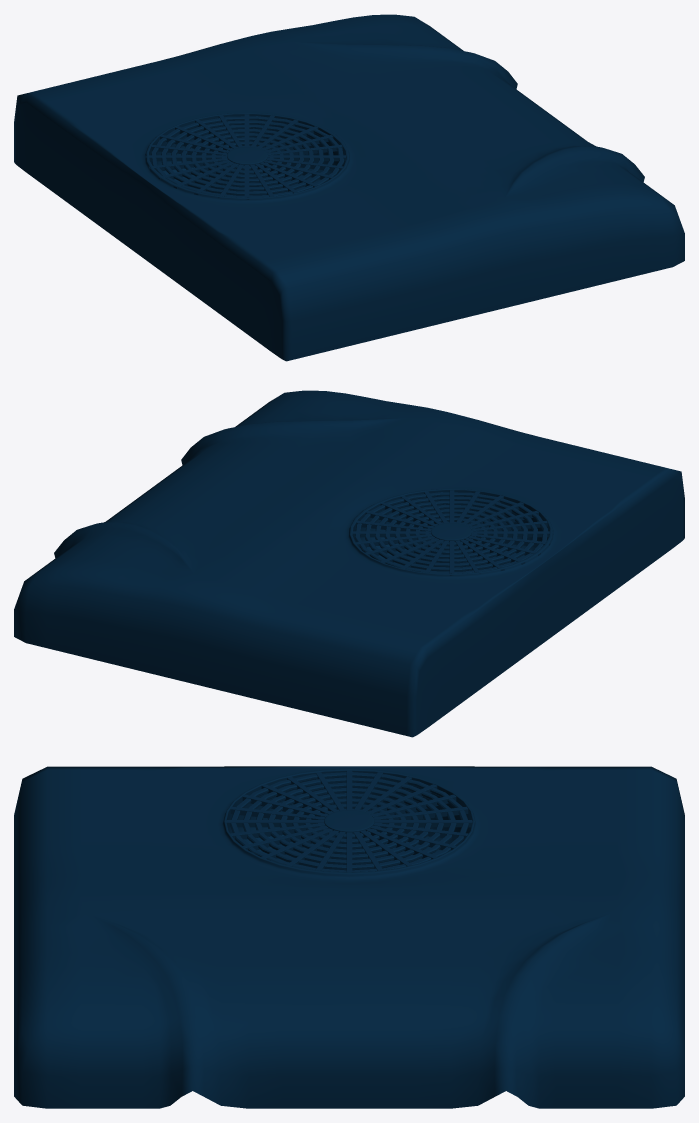
File: airconditioner.glb
The picture shows the model from 3 angles, top to bottom: view 1: azimuth 30°, elevation 25°; view 2: azimuth 150°, elevation 25°; view 3: azimuth 270°, elevation 25°; orthographic projection. The views are drawn at different scales.
Parts seen in each view (by area): view 1: air_conditioner; view 2: air_conditioner; view 3: air_conditioner.
Part boxes in pixels (bbox=[...]): air_conditioner: bbox=[14, 14, 684, 361]; air_conditioner: bbox=[14, 390, 684, 737]; air_conditioner: bbox=[14, 766, 684, 1108].
Bounding box in the file's own units: 0.8285 × 0.1529 × 0.903.
